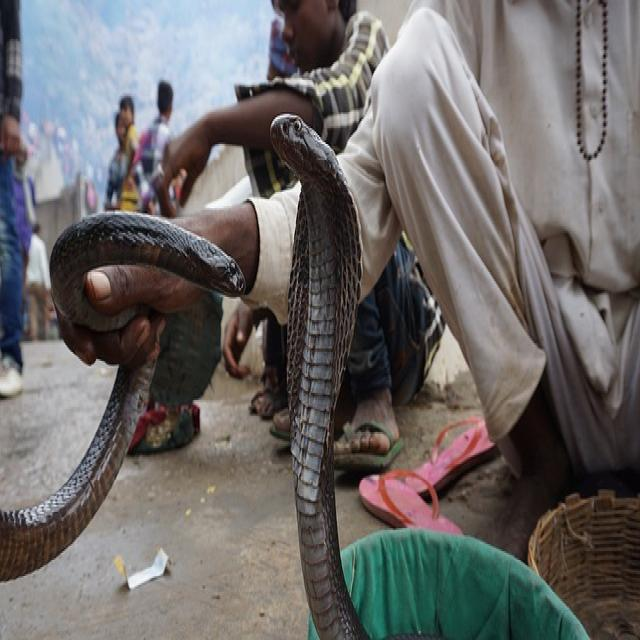Carnivorous: (267, 116, 367, 640), (155, 0, 388, 213), (0, 361, 157, 585), (49, 212, 247, 340), (133, 80, 175, 212), (105, 98, 139, 210)
